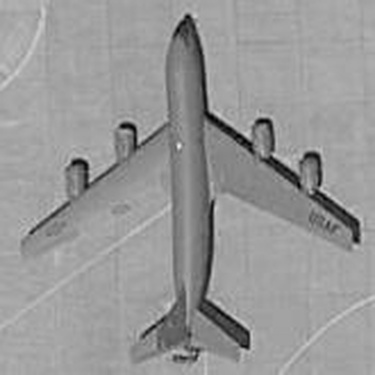airplane: (5, 5, 360, 367)
